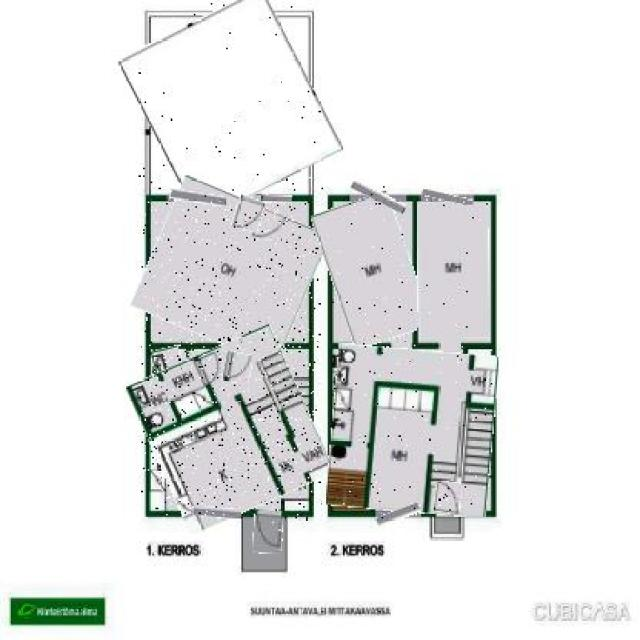door: (252, 511, 283, 554), (234, 195, 263, 231), (223, 352, 252, 383), (435, 480, 460, 514)
window: (349, 186, 408, 208), (169, 191, 226, 206), (375, 506, 420, 523), (421, 192, 474, 205), (192, 506, 240, 519), (260, 197, 294, 203)
zone: (132, 1, 328, 208), (140, 336, 322, 522), (142, 190, 320, 356), (330, 346, 496, 514), (322, 196, 423, 346), (417, 203, 489, 342), (188, 351, 226, 400), (154, 346, 188, 400)
